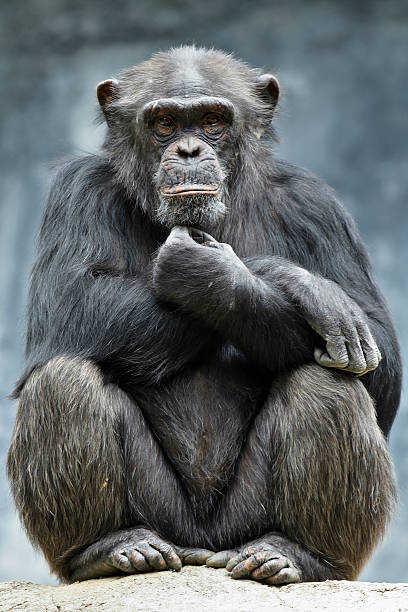chimpanzee: (65, 26, 291, 264)
